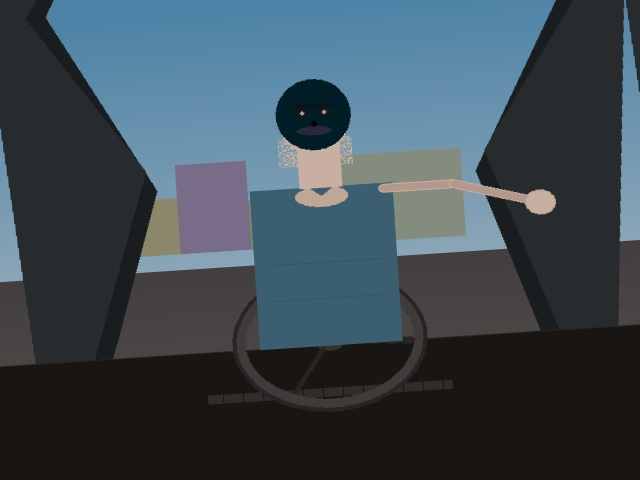hands_off_wheel: (523, 195, 561, 237)
